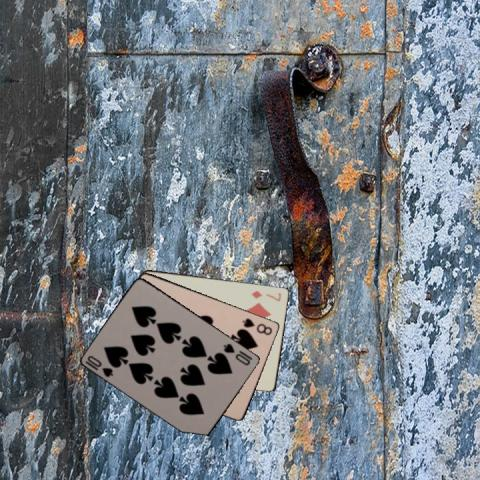10s: (221, 340, 252, 367), (85, 352, 115, 378)
7d: (248, 287, 282, 303)
8s: (239, 315, 274, 337)
